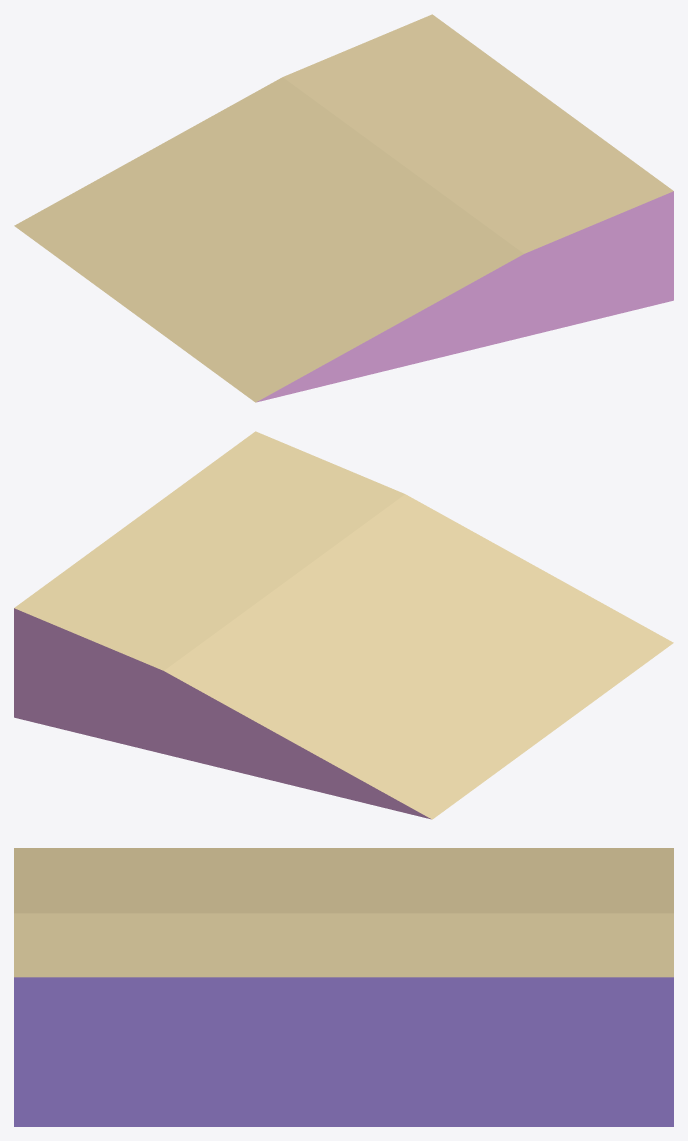
File: Path_Terrain_Transition_Grass_Center_1x1.glb
The picture shows the model from 3 angles, top to bottom: view 1: azimuth 30°, elevation 25°; view 2: azimuth 150°, elevation 25°; view 3: azimuth 270°, elevation 25°; orthographic projection. The views are drawn at different scales.
Parts seen in each view (by area): view 1: Path_Terrain_Transition_Grass_Center_1x1; view 2: Path_Terrain_Transition_Grass_Center_1x1; view 3: Path_Terrain_Transition_Grass_Center_1x1.
Boxes of the visible parts, <box> form: Path_Terrain_Transition_Grass_Center_1x1: <box>14,14,673,402</box>; Path_Terrain_Transition_Grass_Center_1x1: <box>14,431,673,819</box>; Path_Terrain_Transition_Grass_Center_1x1: <box>14,848,673,1126</box>.
Bounding box in the file's own units: 100 × 25 × 100.
